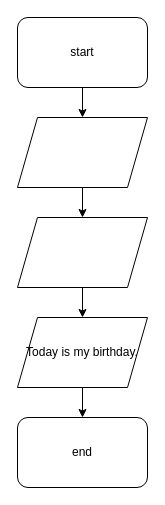
The diagram is 165 pixels wide and 505 high, and some of its shapes have lost their labels. Here are the shapes that lost their labels. From the top down, the centre of each, then its label:
(82,152): Hello, I'm Javis (RMUTL-Version).
(82,252): This is my first time to coding with C language.
